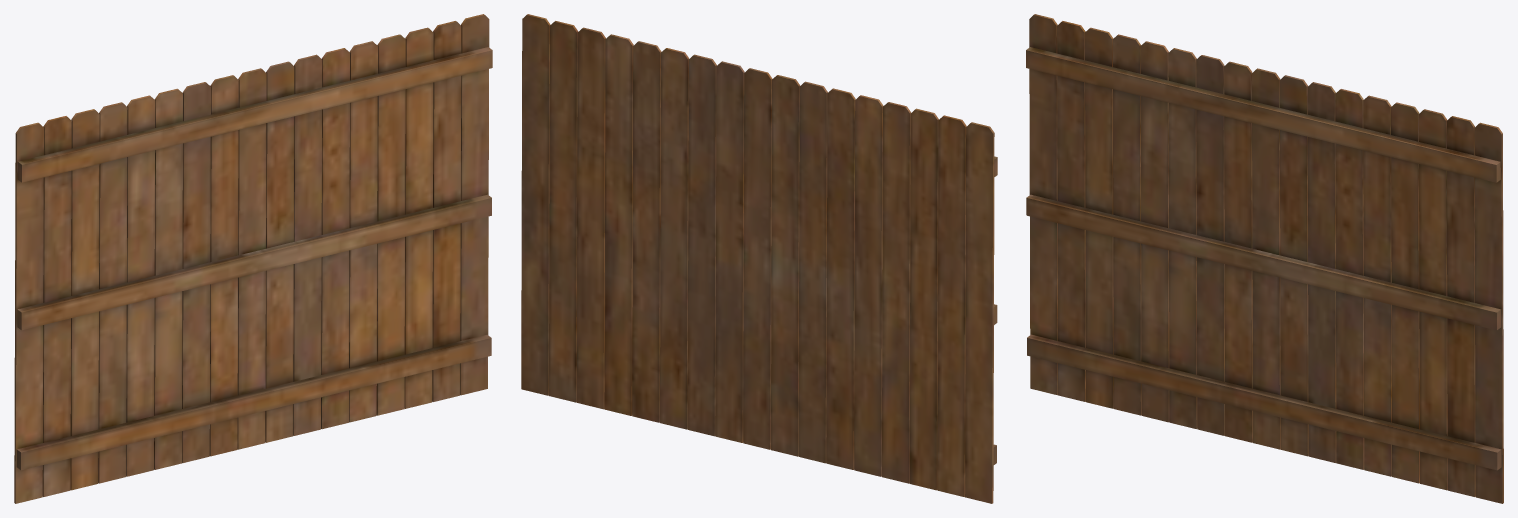
The model's file is privacy-fence.lod1.glb.
The picture shows the model from 3 angles, left to right: view 1: azimuth 30°, elevation 25°; view 2: azimuth 150°, elevation 25°; view 3: azimuth 330°, elevation 25°; orthographic projection.
Parts seen in each view (by area): view 1: Fence_17_DE_Fence_17_DE_map_0; view 2: Fence_17_DE_Fence_17_DE_map_0; view 3: Fence_17_DE_Fence_17_DE_map_0.
Part boxes in pixels (<box>): Fence_17_DE_Fence_17_DE_map_0: <box>14,14,492,503</box>; Fence_17_DE_Fence_17_DE_map_0: <box>521,14,997,503</box>; Fence_17_DE_Fence_17_DE_map_0: <box>1026,14,1503,503</box>.
Bounding box in the file's own units: 2.72 × 2.07 × 0.0674.
1 material, 1 textured.
